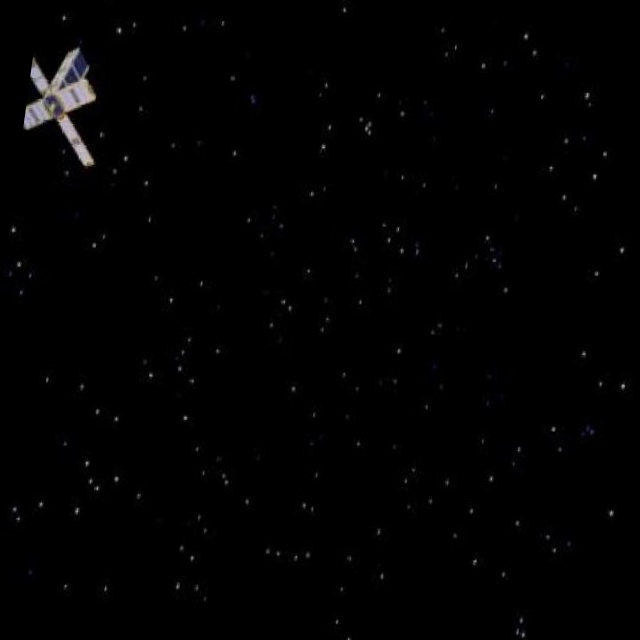satellite: (18, 33, 117, 178)
